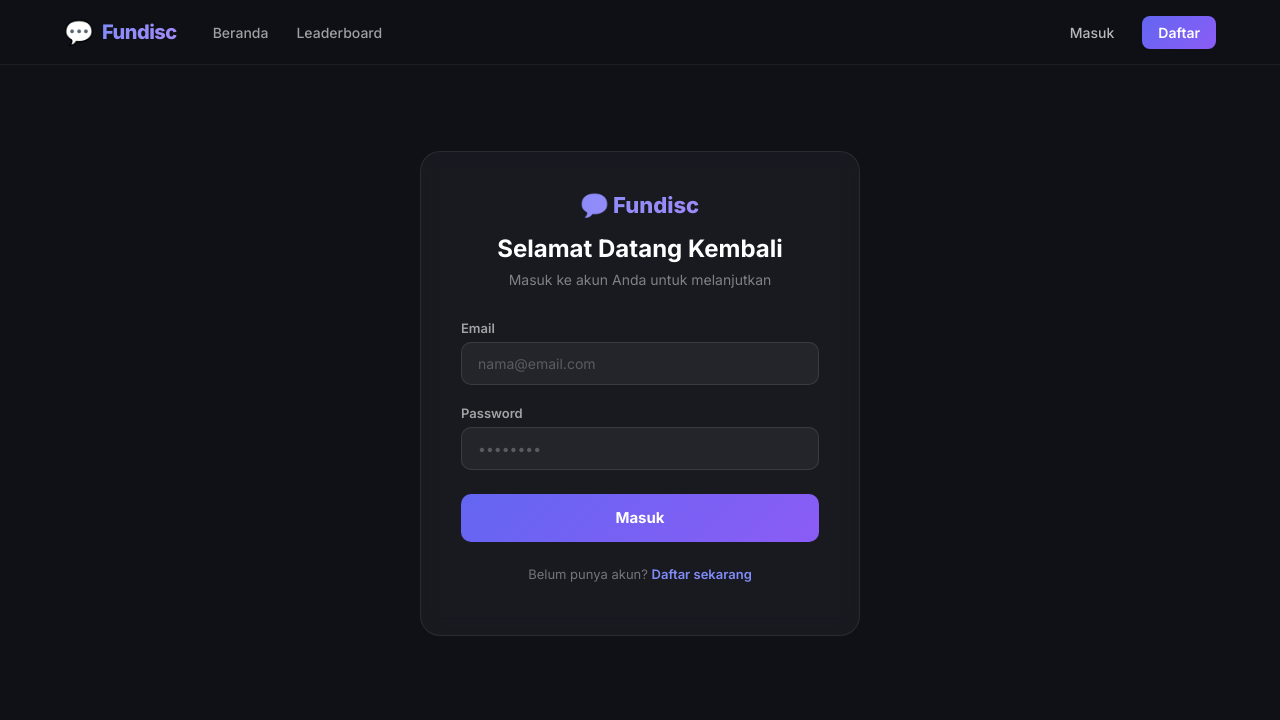
Test: Login spec › should display an error message on wrong credentials
Type "wrong@example.com" into the field labelled "Email" at (640, 364), box [461, 342, 819, 385]
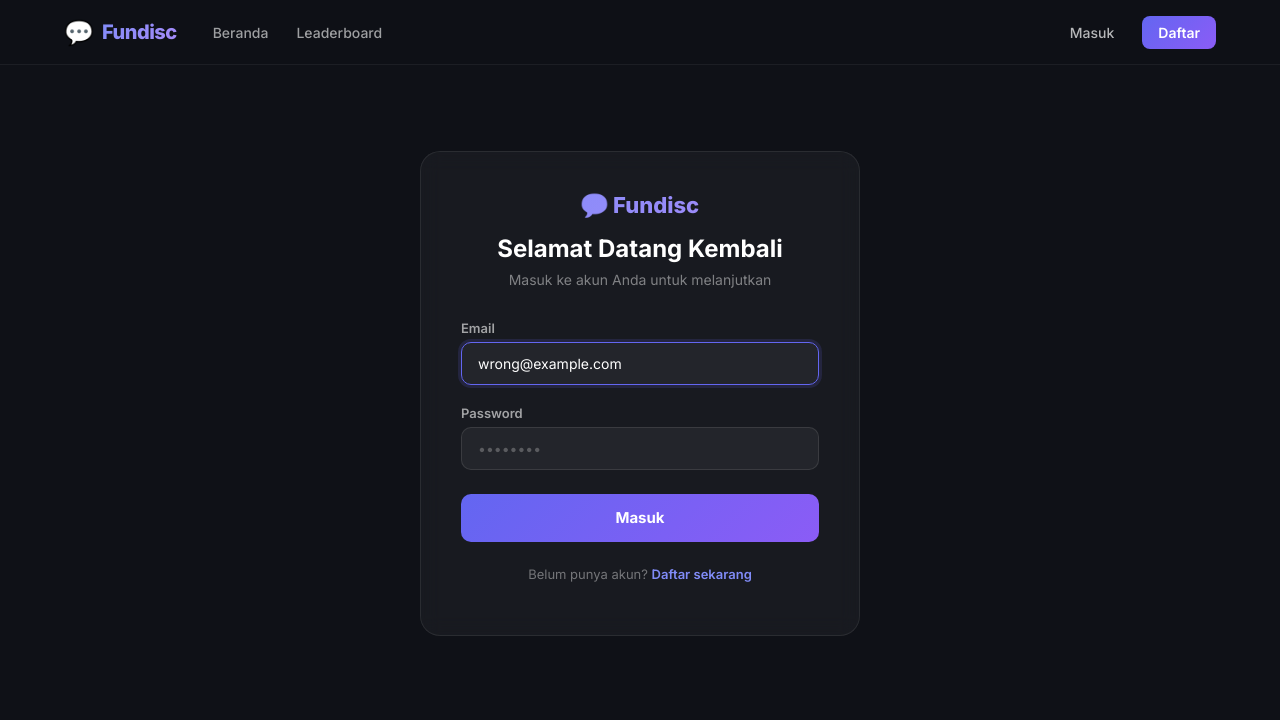
Type "wrongpassword" into the password field labelled "Password" at (640, 449), box [461, 427, 819, 470]
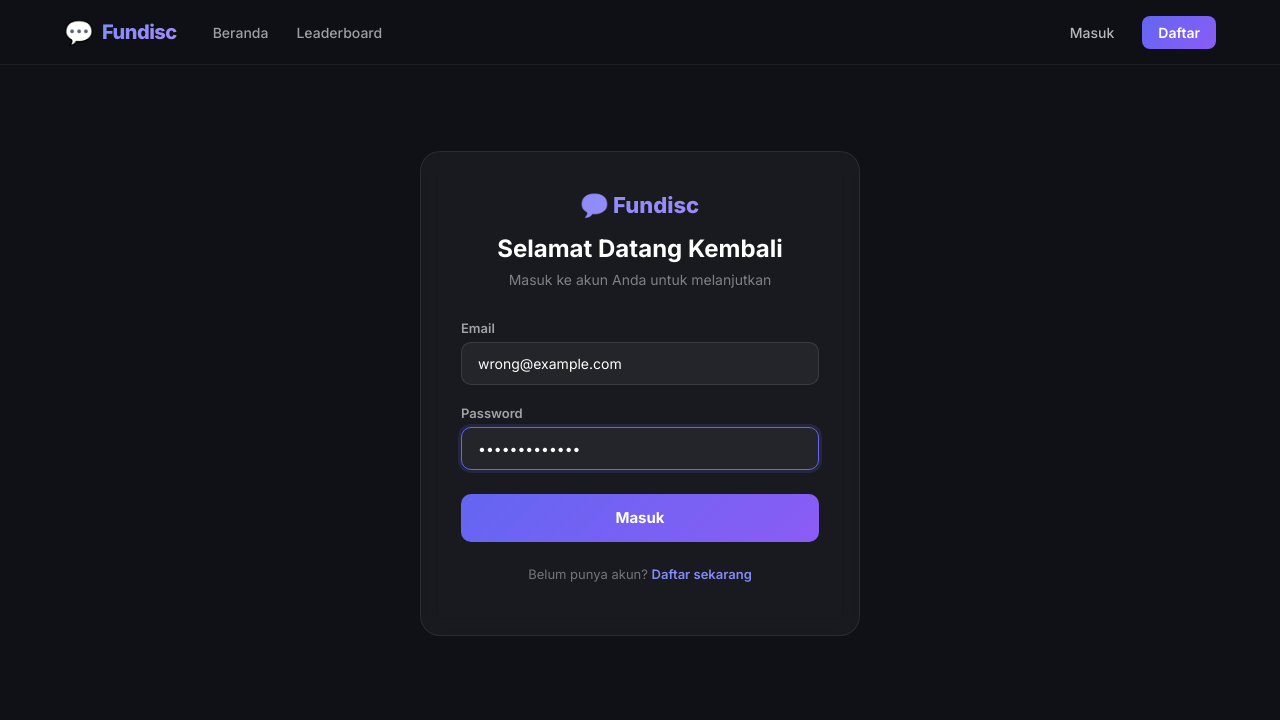
Click the submit button at (640, 518), box [461, 494, 819, 542]
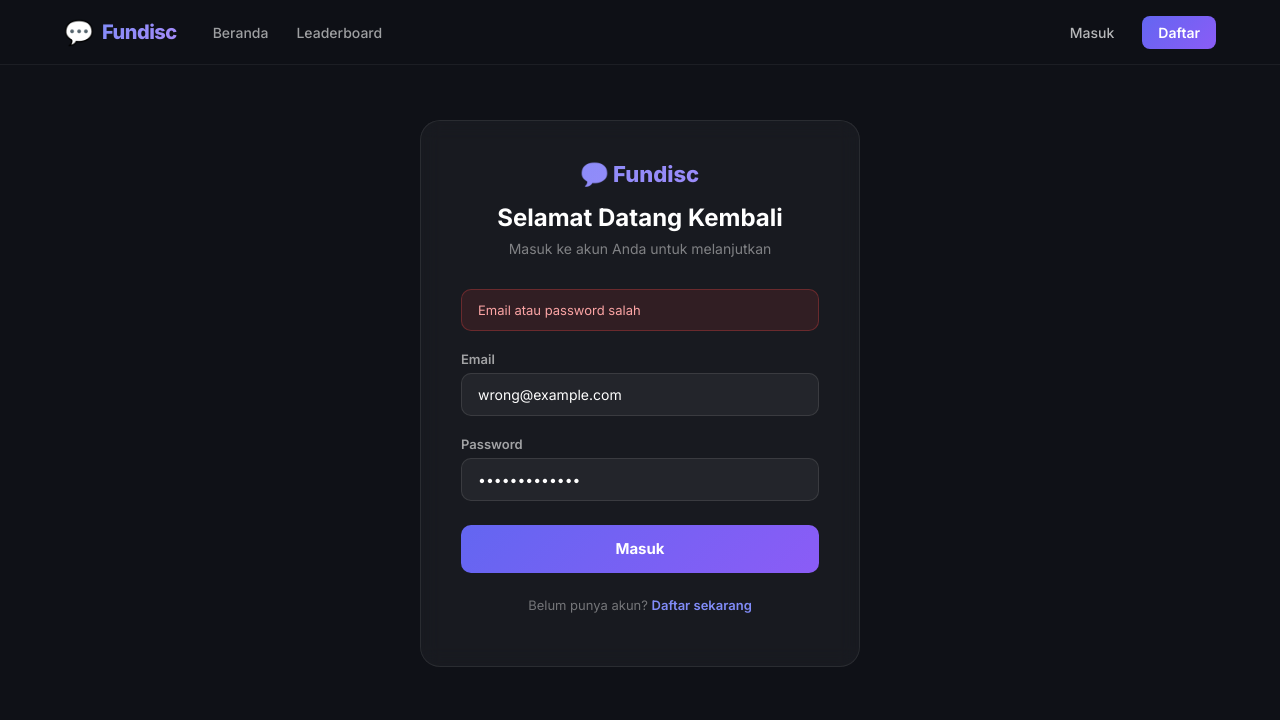
Check: the text "Email atau password salah" is shown, box [461, 288, 819, 330]
